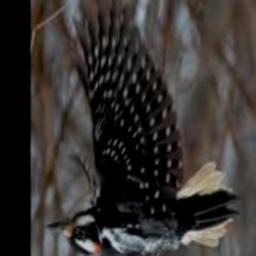Woodpecker: (47, 0, 239, 256)
